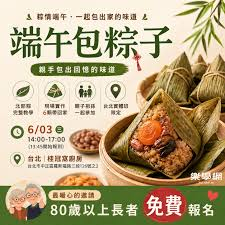zongzi: (129, 104, 193, 175), (147, 52, 192, 104), (190, 54, 224, 111), (192, 55, 207, 80)
